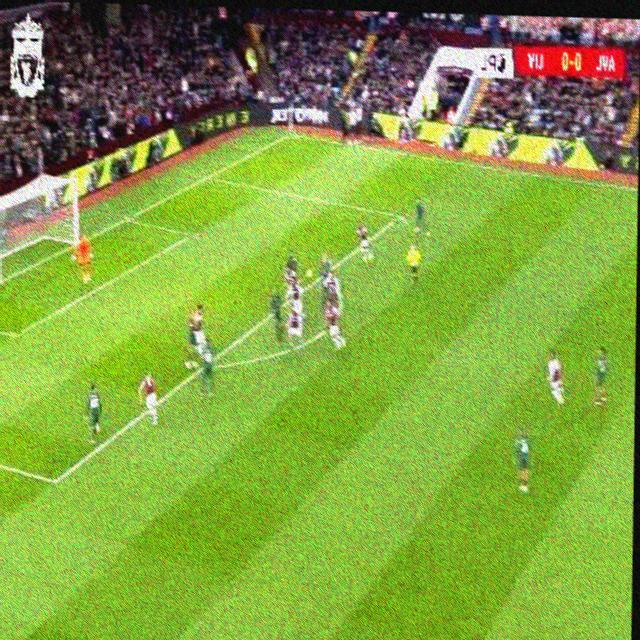bigarea_bottom_inner: (47, 468, 64, 493)
bigarea_top_inner: (393, 206, 407, 224)
bigarea_top_outter: (203, 171, 214, 182)
corner: (286, 131, 297, 137)
smallarea_bottom_inner: (9, 325, 21, 343)
smallarea_top_inner: (187, 227, 199, 241)
smallarea_top_outter: (123, 214, 133, 224)
